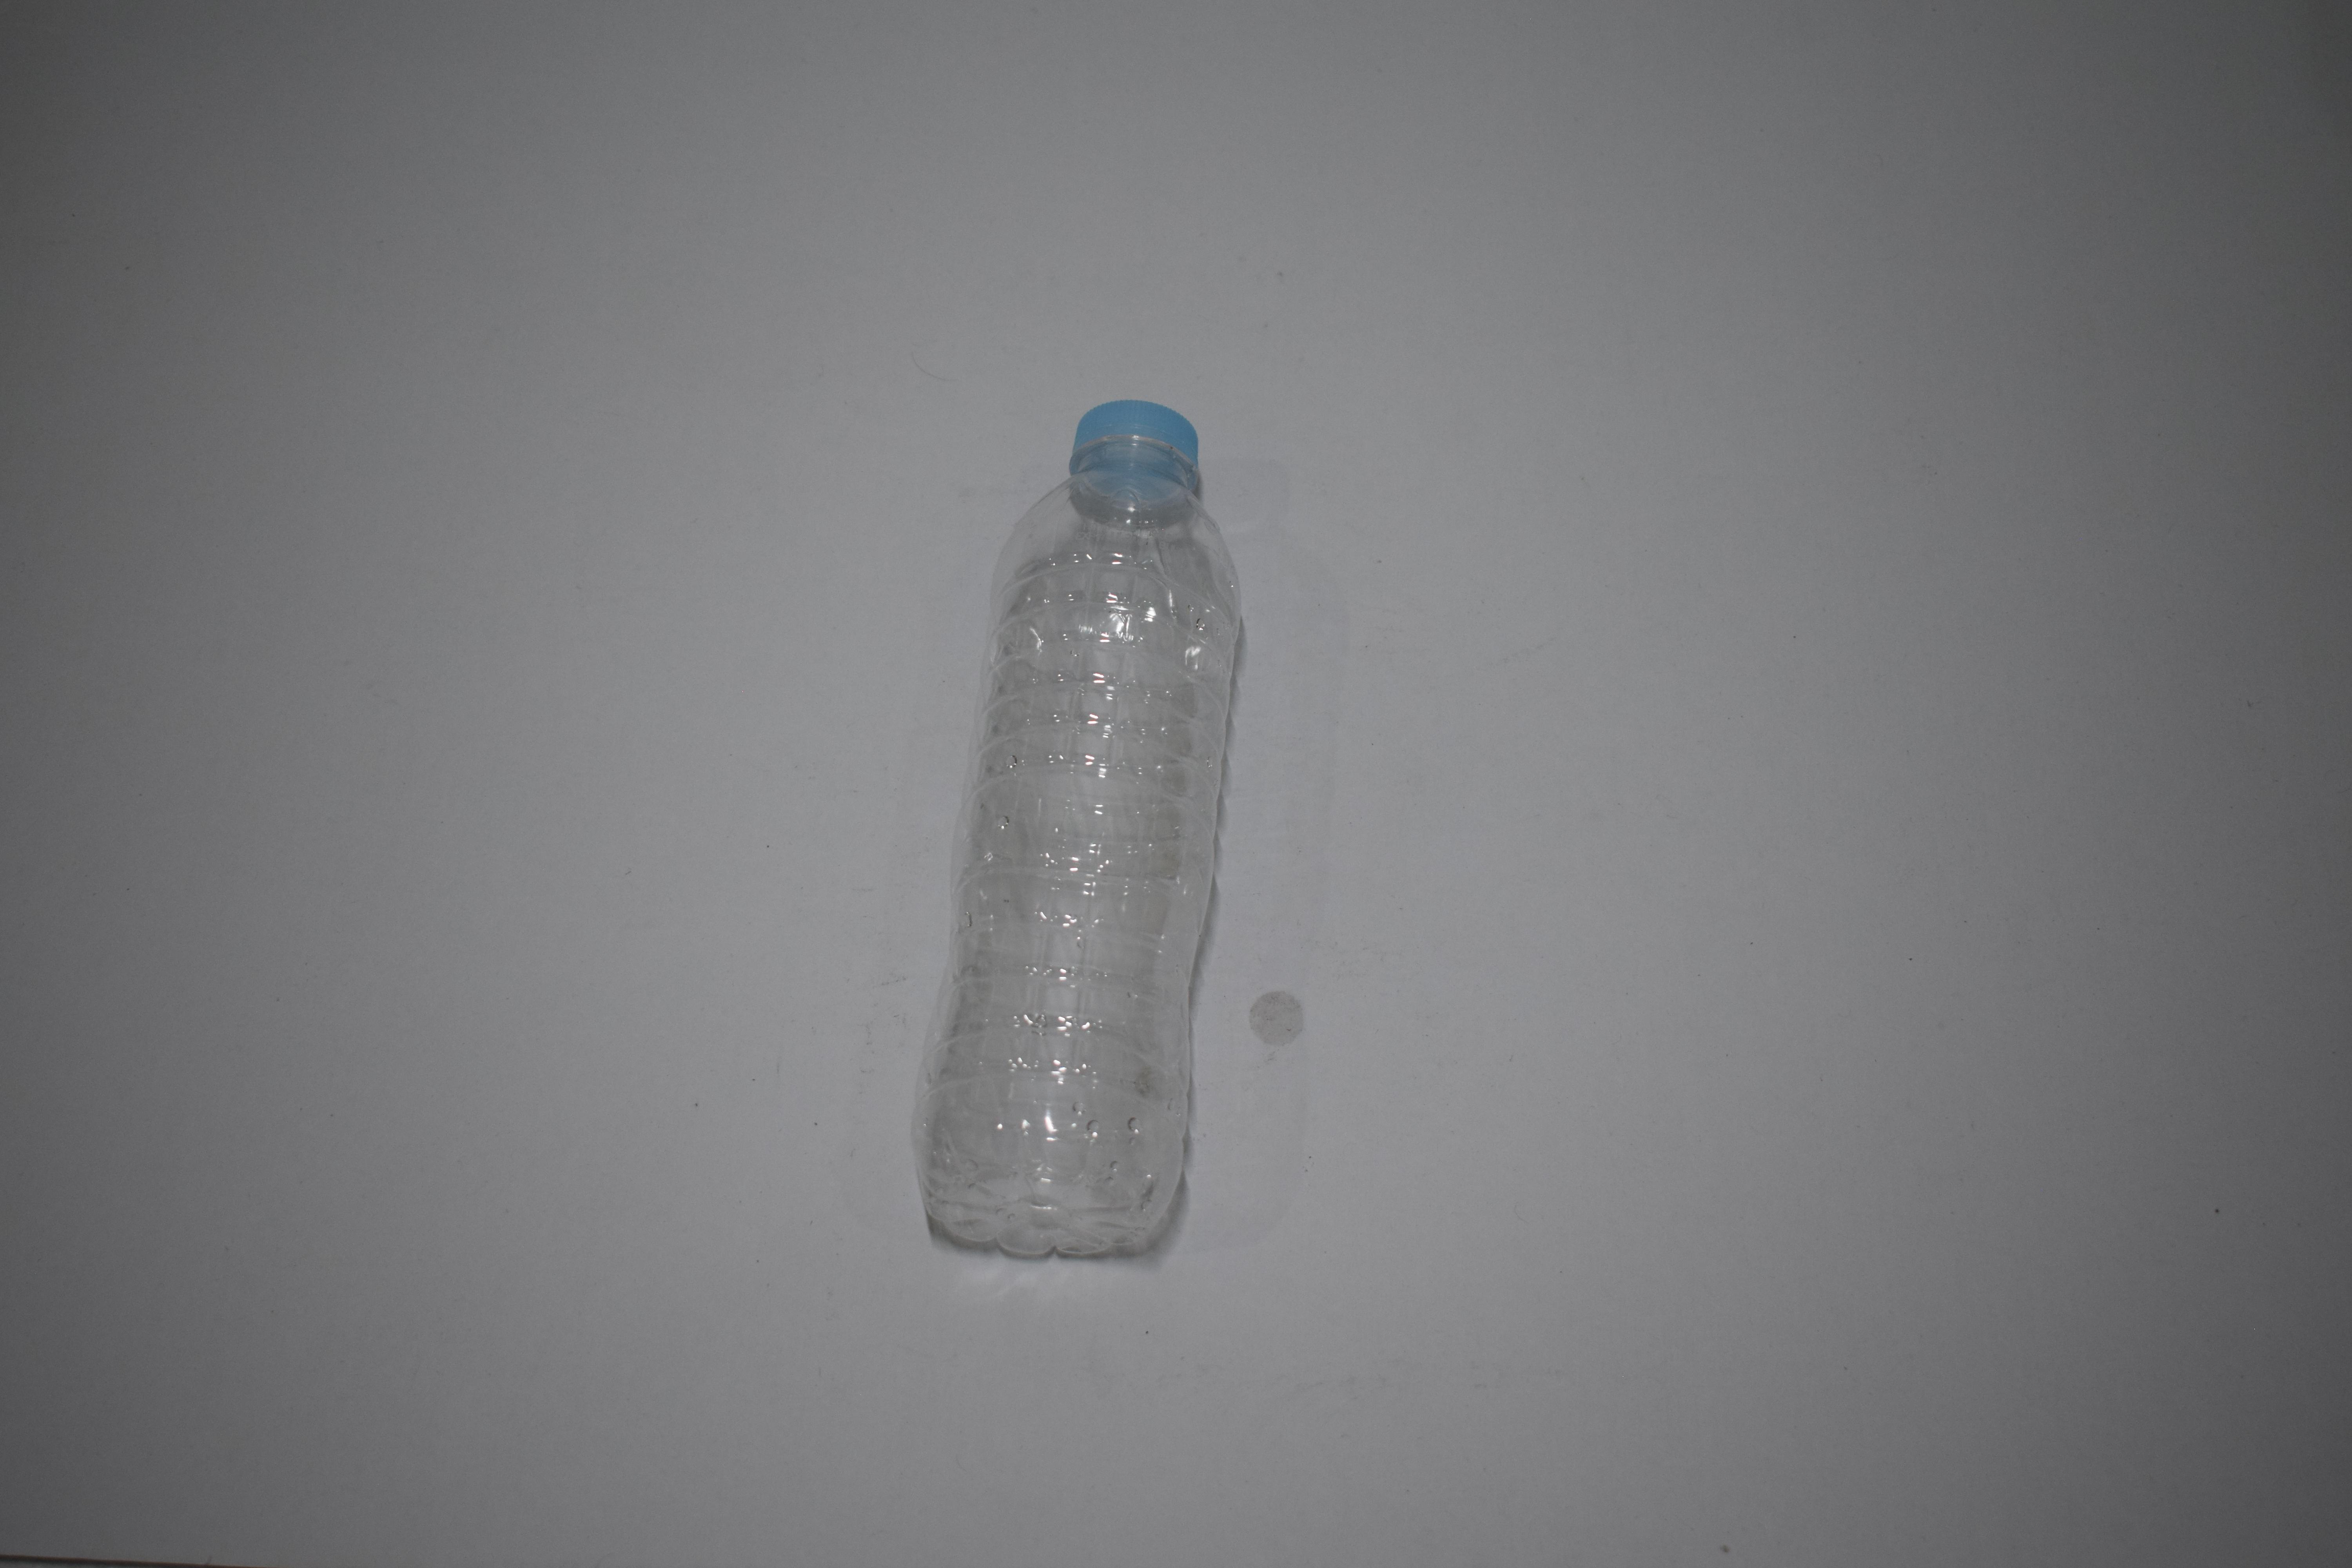bottle: (919, 0, 1248, 93)
